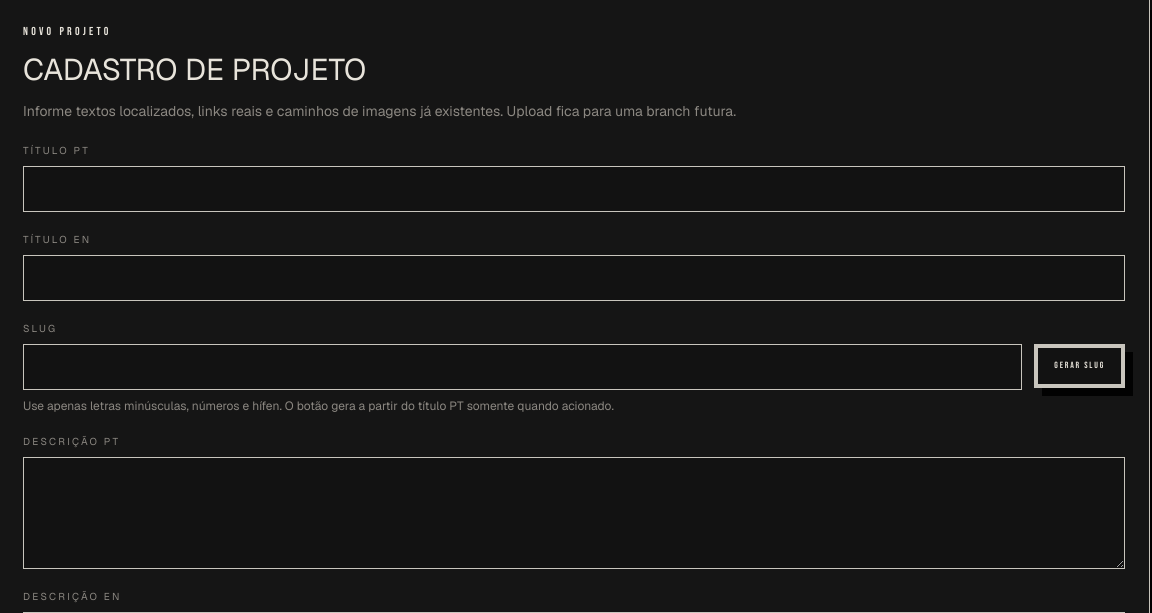
ProjectForm › generates slug only when the button is clicked
Type "Portfólio Gerenciável" into the field labelled "Título PT".
click(574, 189); type("Portfólio Gerenciável")  # box [23,166,1125,212]
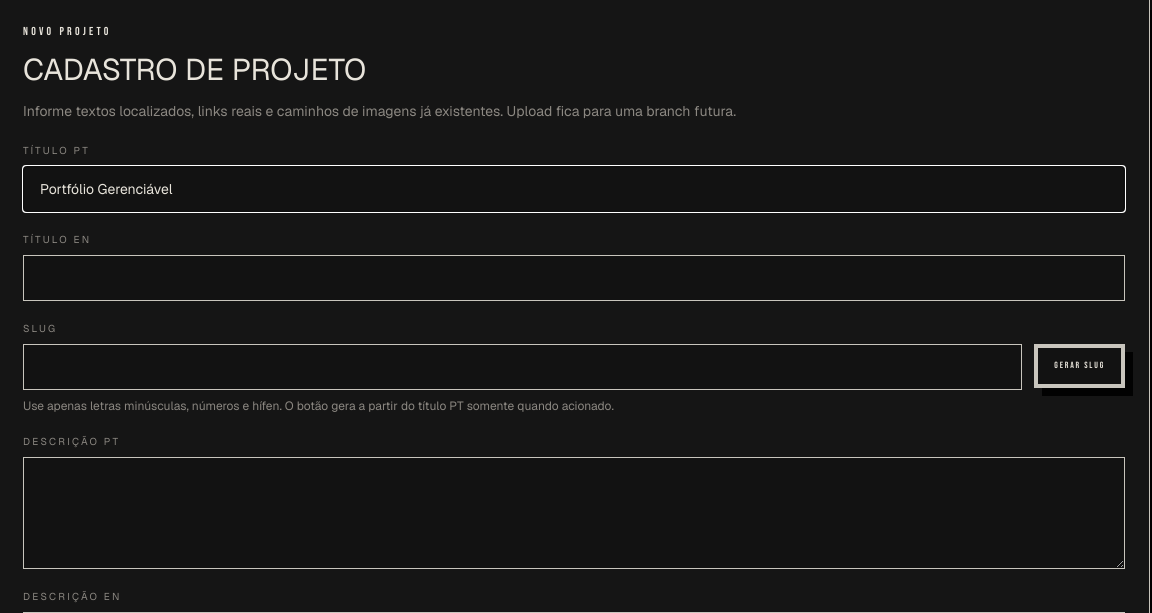
Check: the field labelled "Slug" is empty, box [23,344,1022,390]
Click the button "Gerar slug".
click(1080, 366)  # box [1034,344,1125,388]
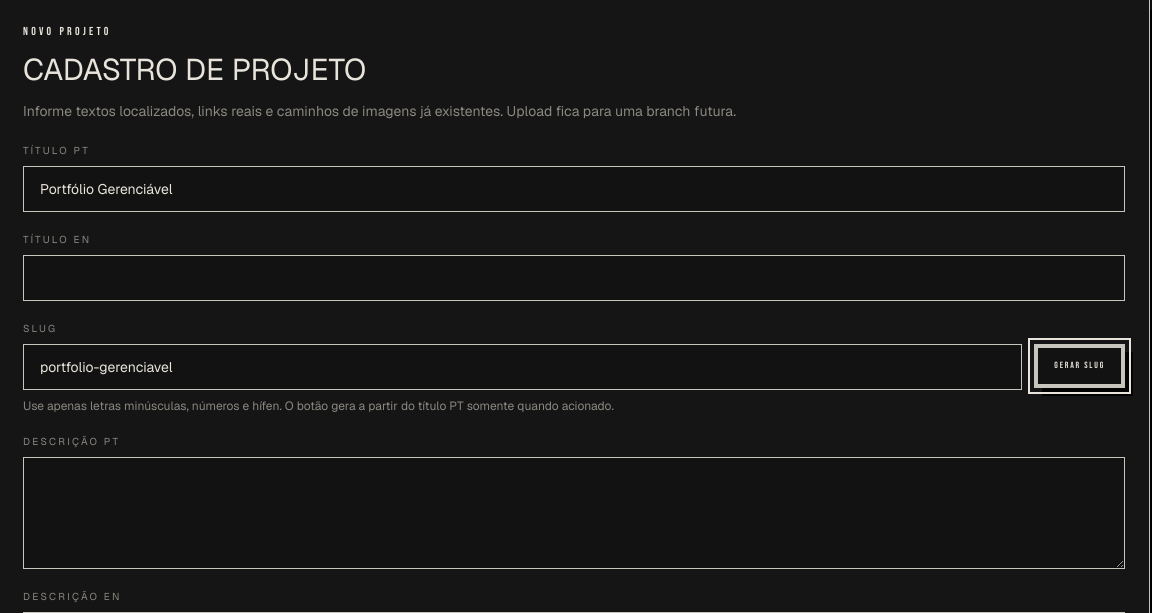
Check: the field labelled "Slug" holds "portfolio-gerenciavel", box [23,344,1022,390]
